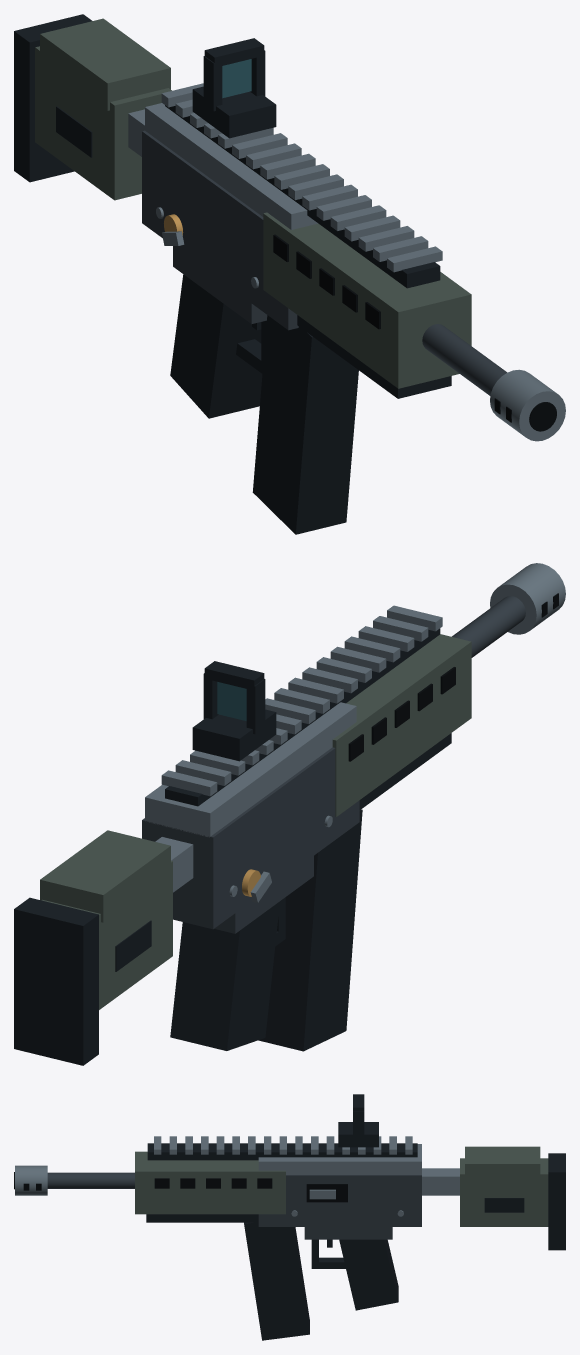
File: FSA_WPN_AR_001_Vanguard.glb
3 views of the same model, one above another, from view 1: azimuth 30°, elevation 25°; view 2: azimuth 150°, elevation 25°; view 3: azimuth 270°, elevation 25° (orthographic). The views are drawn at different scales.
Visible parts, largest first — view 1: Handguard, MagazineBody, Receiver, GripCore, StockBody, StockCheek, UpperReceiver, ButtPad, Muzzle, SightBase, Barrel, RailBase (+20 smaller); view 2: Receiver, MagazineBody, ButtPad, Handguard, GripCore, UpperReceiver, StockCheek, StockBody, Muzzle, SightBase, Barrel, RailBase (+21 smaller); view 3: Handguard, Receiver, MagazineBody, StockBody, GripCore, RailBase, UpperReceiver, StockCheek, ButtPad, Barrel, LowerReceiver, StockTube (+7 smaller).
Part boxes in pixels (<box>): Handguard: <box>263,212,471,388</box>; MagazineBody: <box>252,315,358,534</box>; Receiver: <box>142,130,298,330</box>; GripCore: <box>170,274,262,418</box>; StockBody: <box>35,46,171,200</box>; StockCheek: <box>40,18,170,110</box>; UpperReceiver: <box>145,103,317,229</box>; ButtPad: <box>14,14,91,182</box>; Muzzle: <box>490,369,565,441</box>; SightBase: <box>192,86,276,138</box>; Barrel: <box>422,324,506,395</box>; RailBase: <box>165,105,440,288</box>; Receiver: <box>142,747,359,929</box>; MagazineBody: <box>258,809,362,1051</box>; ButtPad: <box>14,897,98,1065</box>; Handguard: <box>332,634,471,816</box>; GripCore: <box>170,901,279,1050</box>; UpperReceiver: <box>145,702,356,837</box>; StockCheek: <box>40,830,170,922</box>; StockBody: <box>41,860,172,1009</box>; Muzzle: <box>490,563,565,634</box>; SightBase: <box>192,709,276,761</box>; Barrel: <box>452,596,525,657</box>; RailBase: <box>165,628,440,806</box>; Handguard: <box>135,1151,285,1214</box>; Receiver: <box>258,1175,421,1226</box>; MagazineBody: <box>244,1222,309,1340</box>; StockBody: <box>460,1158,548,1226</box>; GripCore: <box>339,1239,398,1310</box>; RailBase: <box>147,1143,417,1160</box>; UpperReceiver: <box>258,1144,421,1174</box>; StockCheek: <box>465,1146,540,1179</box>; ButtPad: <box>548,1153,565,1250</box>; Barrel: <box>47,1172,134,1188</box>; LowerReceiver: <box>304,1227,392,1239</box>; StockTube: <box>422,1168,459,1195</box>.
Size of the model in its own units: 0.091 by 0.4089 by 0.8788.
